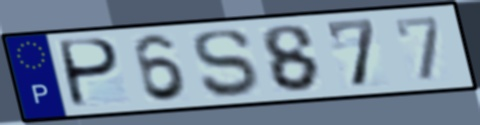6: (132, 32, 188, 105)
7: (322, 16, 380, 91), (390, 13, 444, 84)
8: (259, 23, 324, 94)
P: (58, 37, 124, 111)
S: (189, 27, 260, 100)
